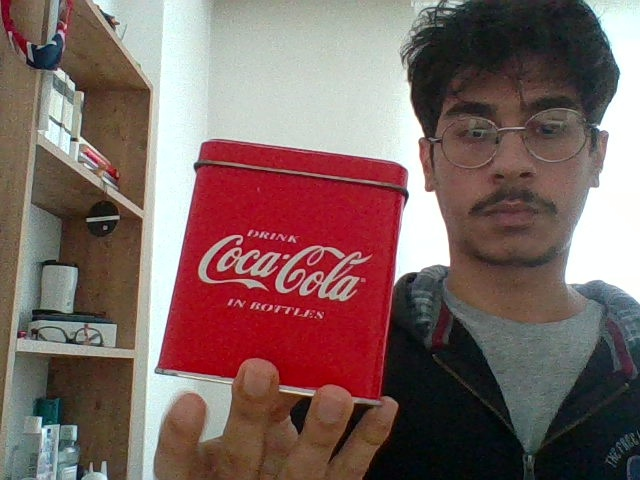CocaColaBox: (179, 140, 406, 396)
